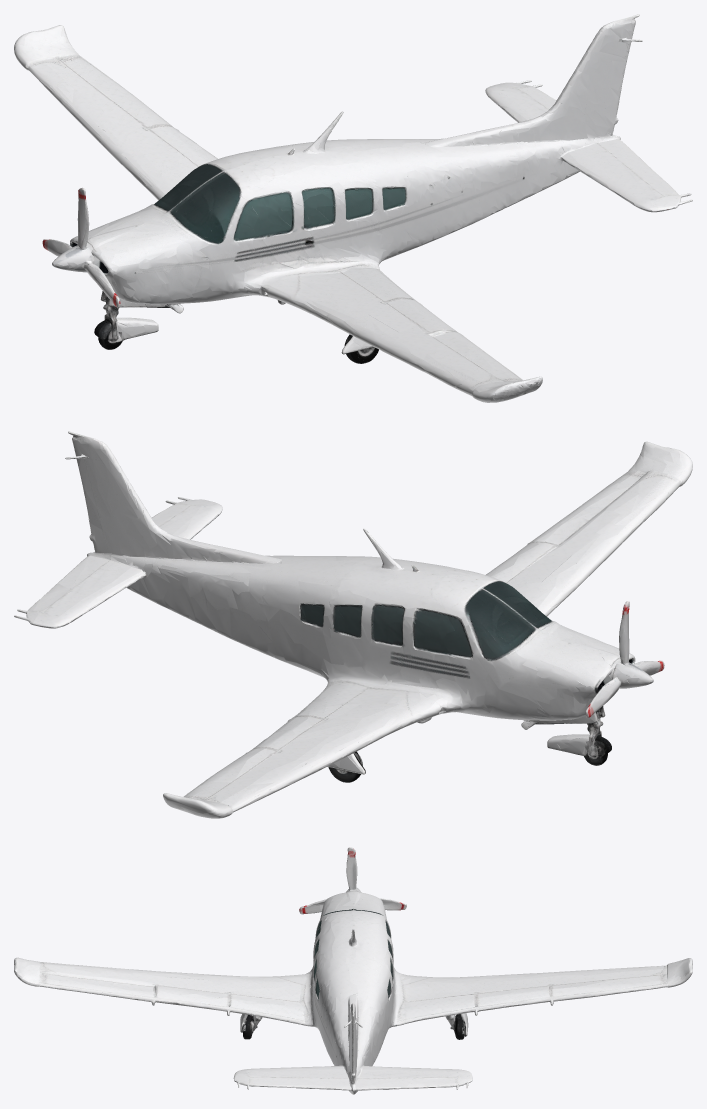
Rendered from light_single.glb.
3 renders of one model, top to bottom at view 1: azimuth 30°, elevation 25°; view 2: azimuth 150°, elevation 25°; view 3: azimuth 270°, elevation 25°, orthographic. The views are drawn at different scales.
Parts seen in each view (by area): view 1: mesh_node; view 2: mesh_node; view 3: mesh_node.
Part boxes in pixels (box(x1,y1,x2,y2)): mesh_node: box(14, 14, 692, 402); mesh_node: box(14, 431, 692, 818); mesh_node: box(14, 847, 692, 1094).
Size of the model in its own units: 1.33 by 0.4534 by 1.9.
Materials: 1 (1 with a texture image).
